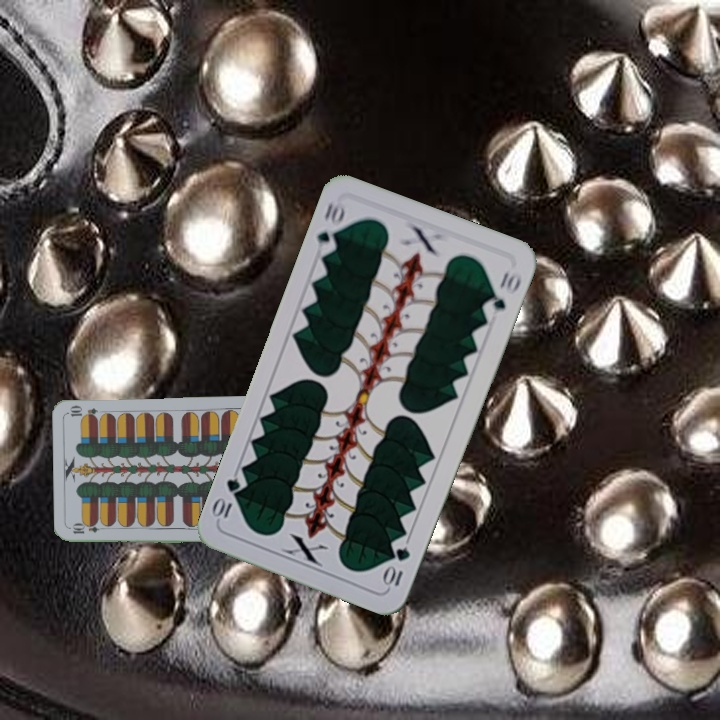E10: (68, 522, 109, 536)
G10: (312, 197, 349, 257), (380, 543, 413, 591)
